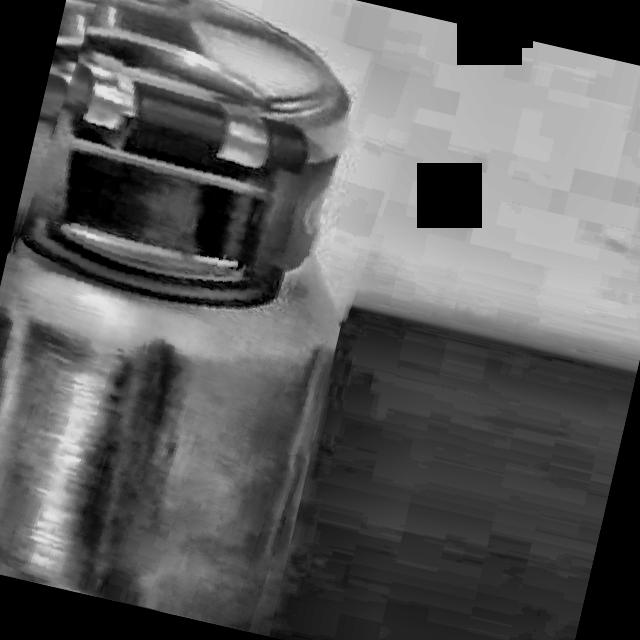bottle: (0, 0, 351, 631)
